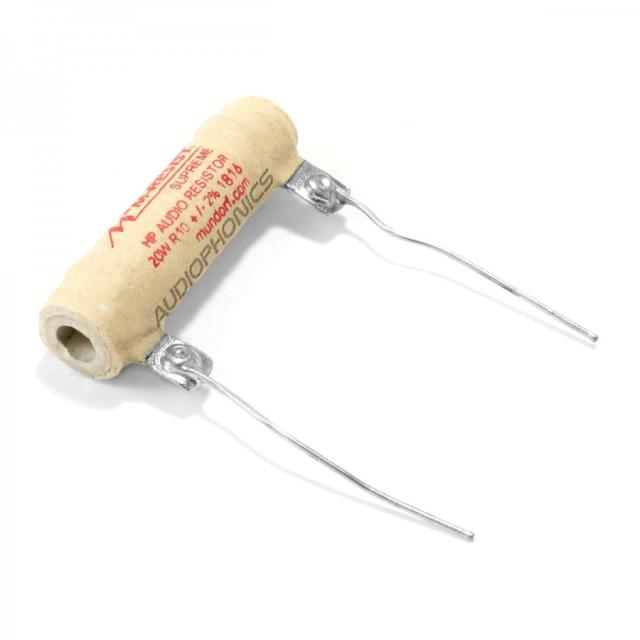Resistor: (44, 75, 315, 400)
